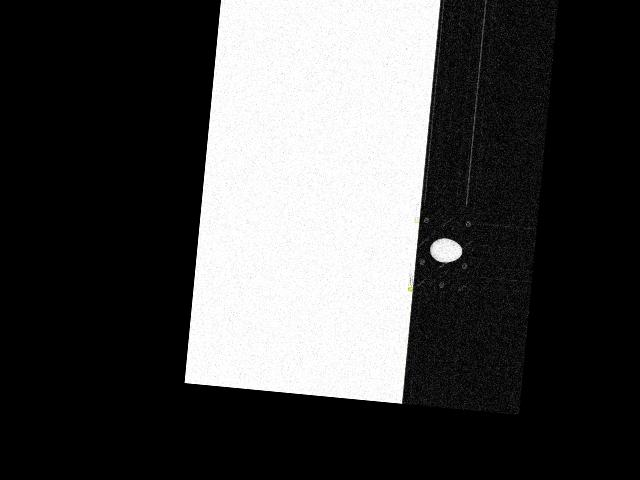egg: (428, 236, 463, 263)
